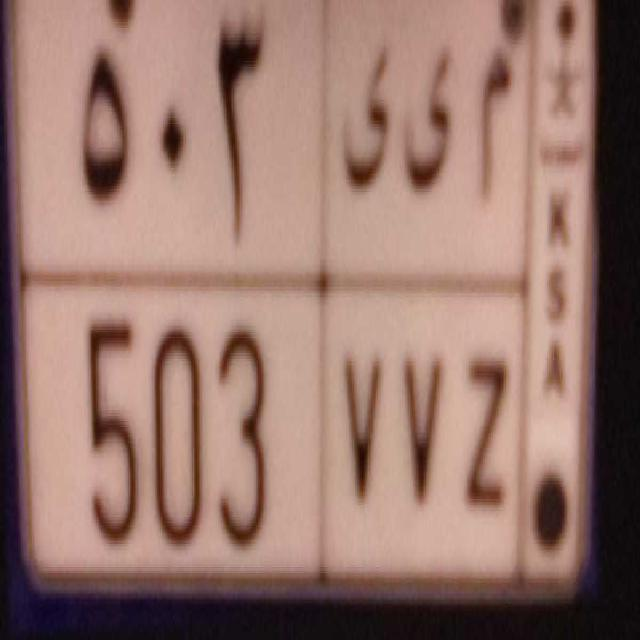license_plate: (18, 270, 522, 578)
